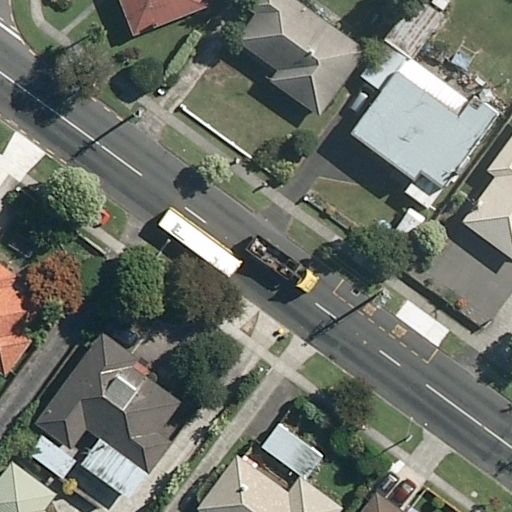DT: (367, 280, 395, 312), (125, 100, 151, 125)
